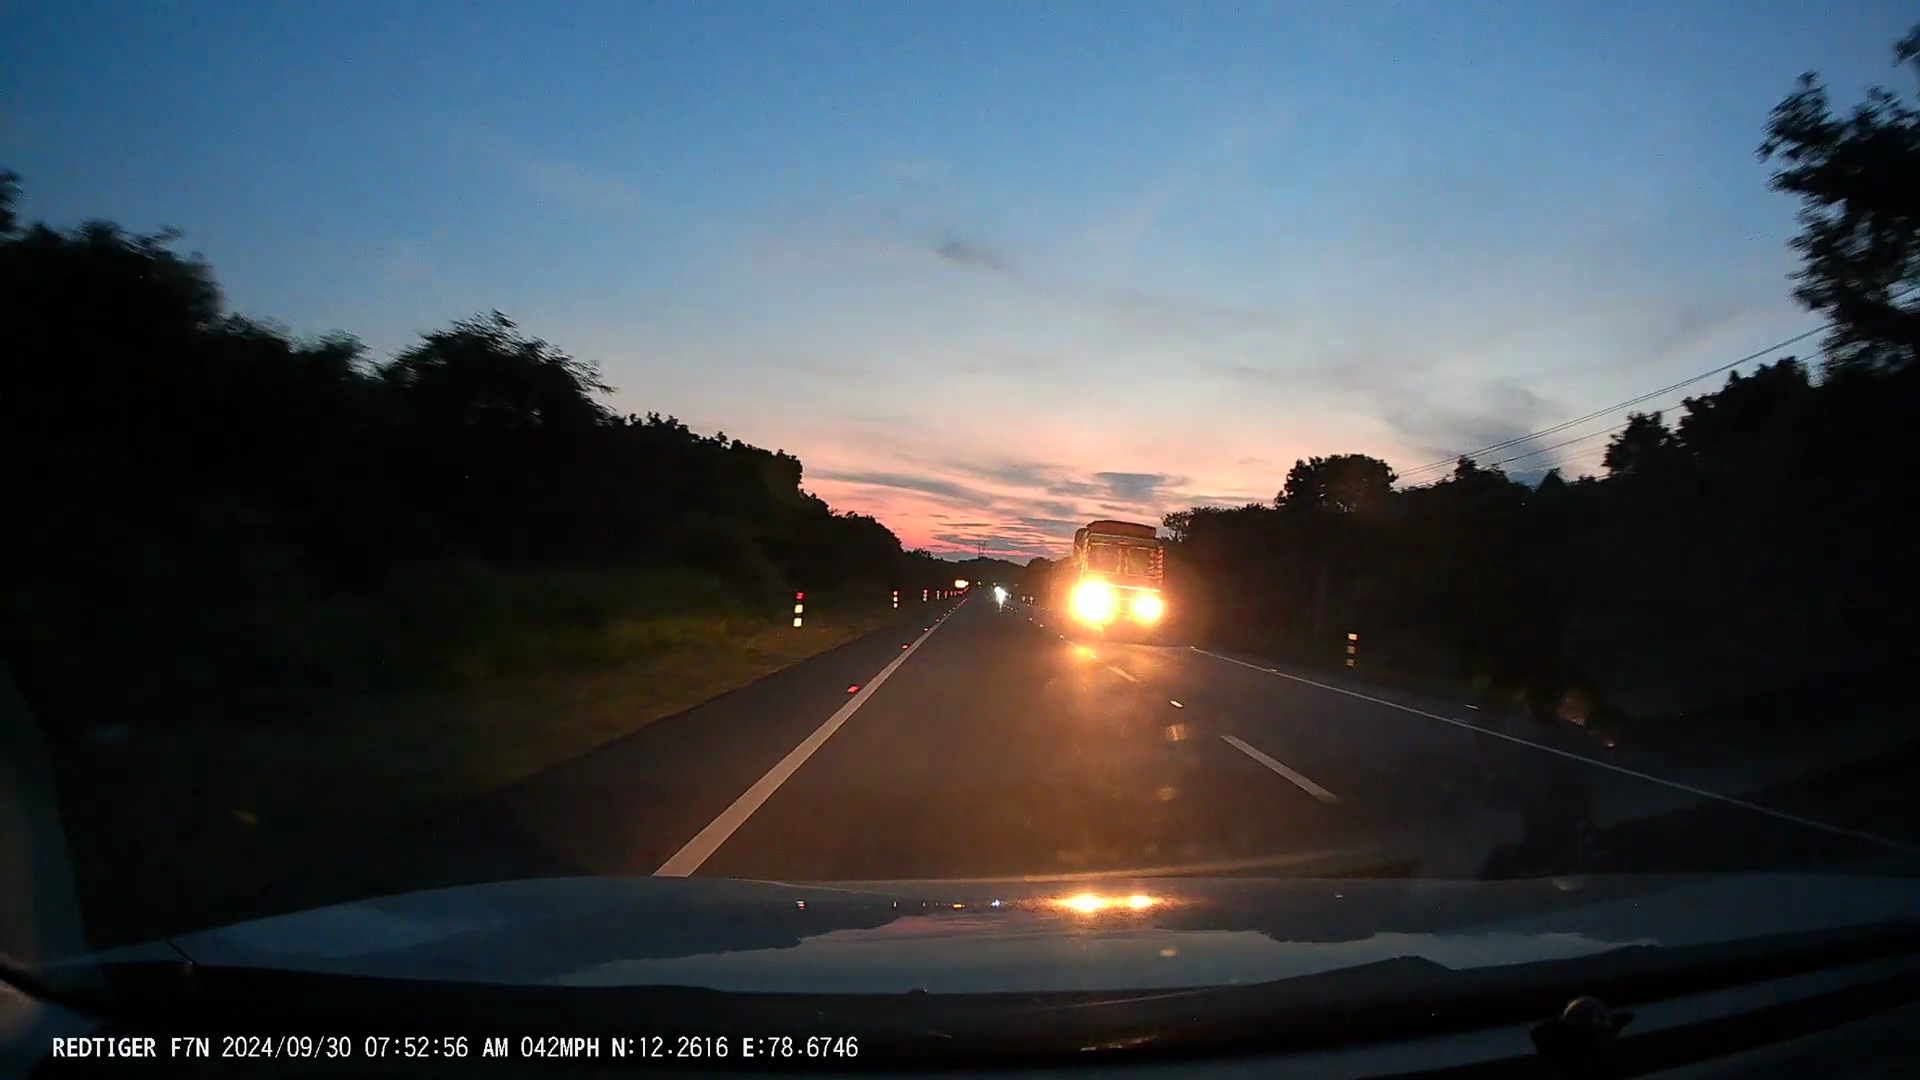four wheeler: (1038, 520, 1167, 641)
headlight: (1069, 578, 1117, 626), (1129, 587, 1162, 629), (992, 587, 1009, 603)
two wheeler: (985, 583, 1015, 620)
